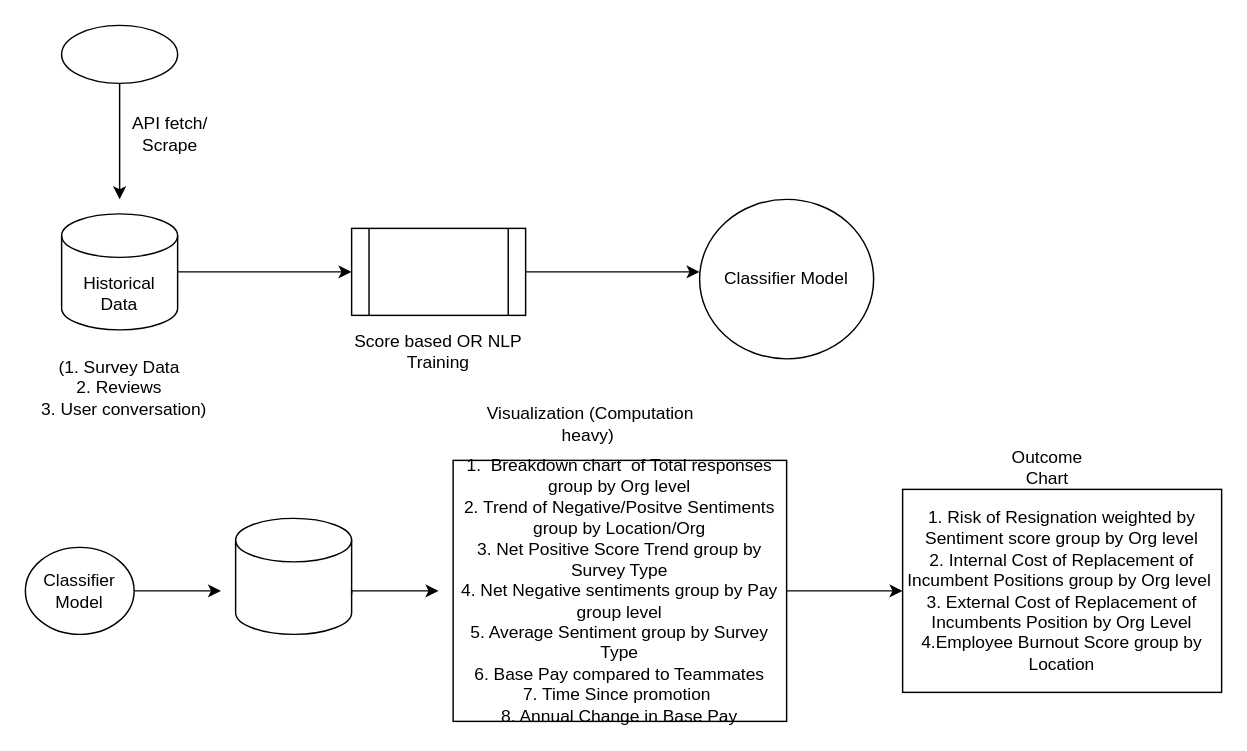
Image size: 1247x751. Some labels were removed from this diagram. The box of each missing label's shape, as (x1, y1, x2, y2) in pixels:
Data Source: (60, 24, 178, 83)
New Data: (234, 517, 352, 634)
Sentiment Analysis: (350, 227, 526, 315)
